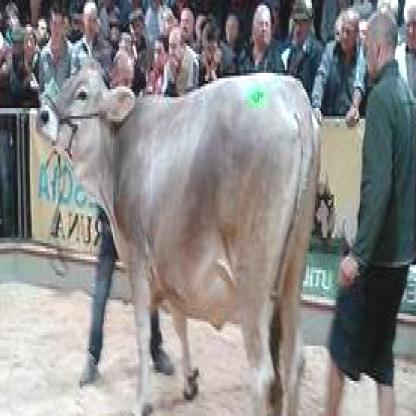cow: (35, 62, 321, 413)
